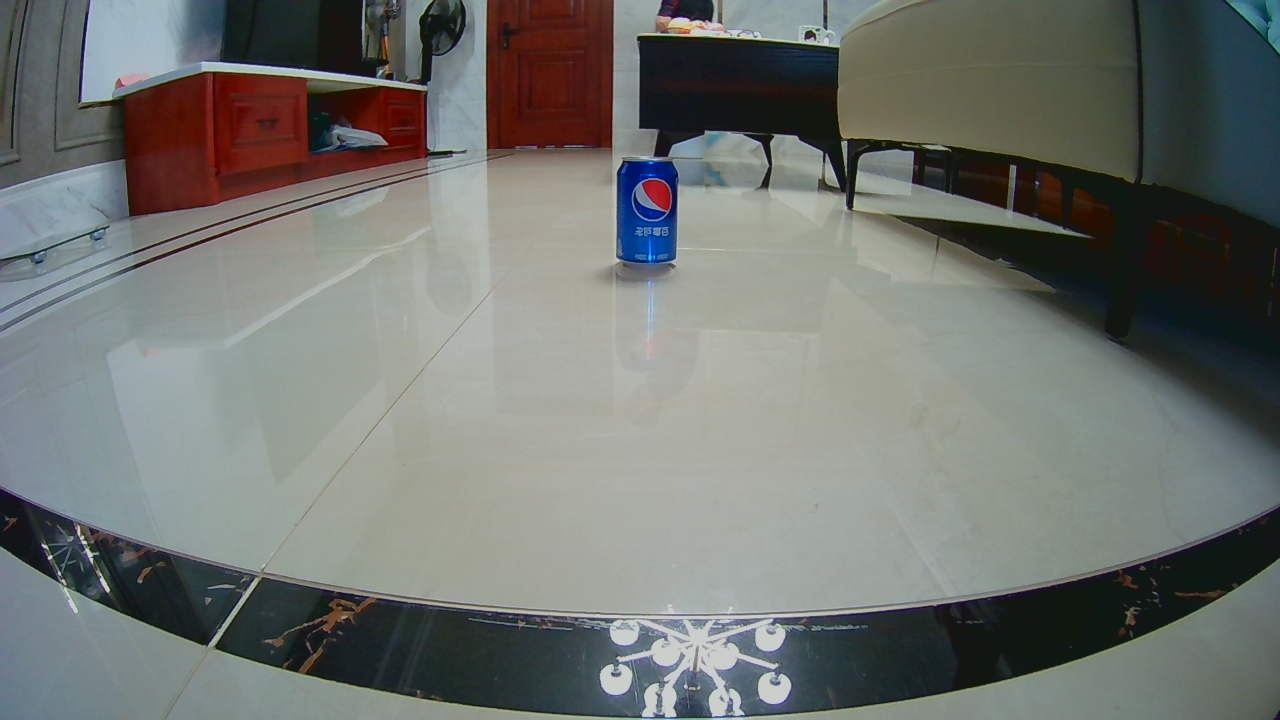pessi: (611, 156, 675, 270)
